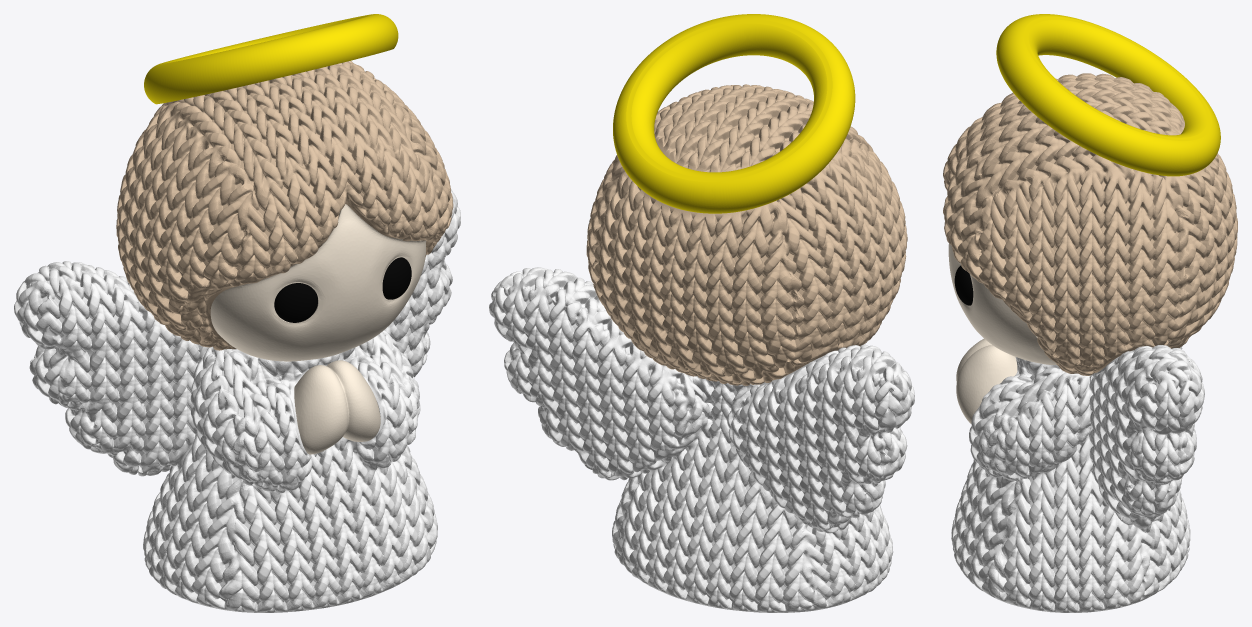
File: angel_armado.glb
3 views of the same model, side by side, from view 1: azimuth 30°, elevation 25°; view 2: azimuth 150°, elevation 25°; view 3: azimuth 270°, elevation 25° (orthographic). The views are drawn at different scales.
Parts seen in each view (by area): view 1: cuerpo, pelo, cara, aureola, manos, ojo_1, ojo_2; view 2: cuerpo, pelo, aureola; view 3: pelo, cuerpo, aureola, cara, manos, ojo_2.
Part boxes in pixels (x1=…): cuerpo: x1=14, y1=189, x2=460, y2=612; pelo: x1=116, y1=60, x2=453, y2=350; cara: x1=210, y1=204, x2=426, y2=361; aureola: x1=144, y1=14, x2=398, y2=104; manos: x1=294, y1=360, x2=380, y2=454; ojo_1: x1=274, y1=283, x2=317, y2=322; ojo_2: x1=382, y1=257, x2=411, y2=299; cuerpo: x1=489, y1=267, x2=914, y2=612; pelo: x1=586, y1=84, x2=907, y2=385; aureola: x1=613, y1=14, x2=855, y2=213; pelo: x1=943, y1=73, x2=1237, y2=375; cuerpo: x1=951, y1=345, x2=1204, y2=612; aureola: x1=996, y1=14, x2=1220, y2=176; cara: x1=948, y1=243, x2=1056, y2=364; manos: x1=956, y1=338, x2=1017, y2=423; ojo_2: x1=954, y1=265, x2=973, y2=305.
Bounding box in the file's own units: 0.0575 × 0.0691 × 0.0354.
